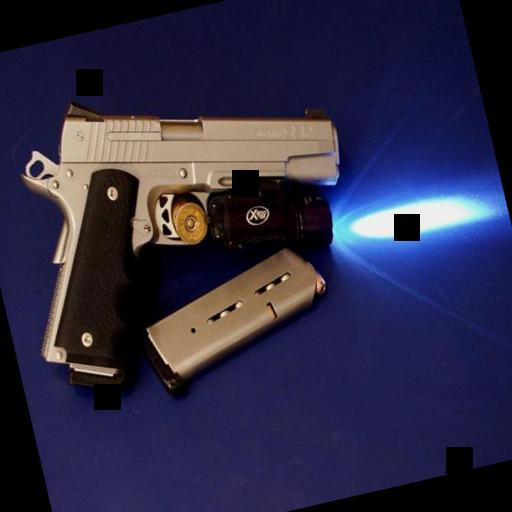Handgun: (0, 34, 390, 427)
